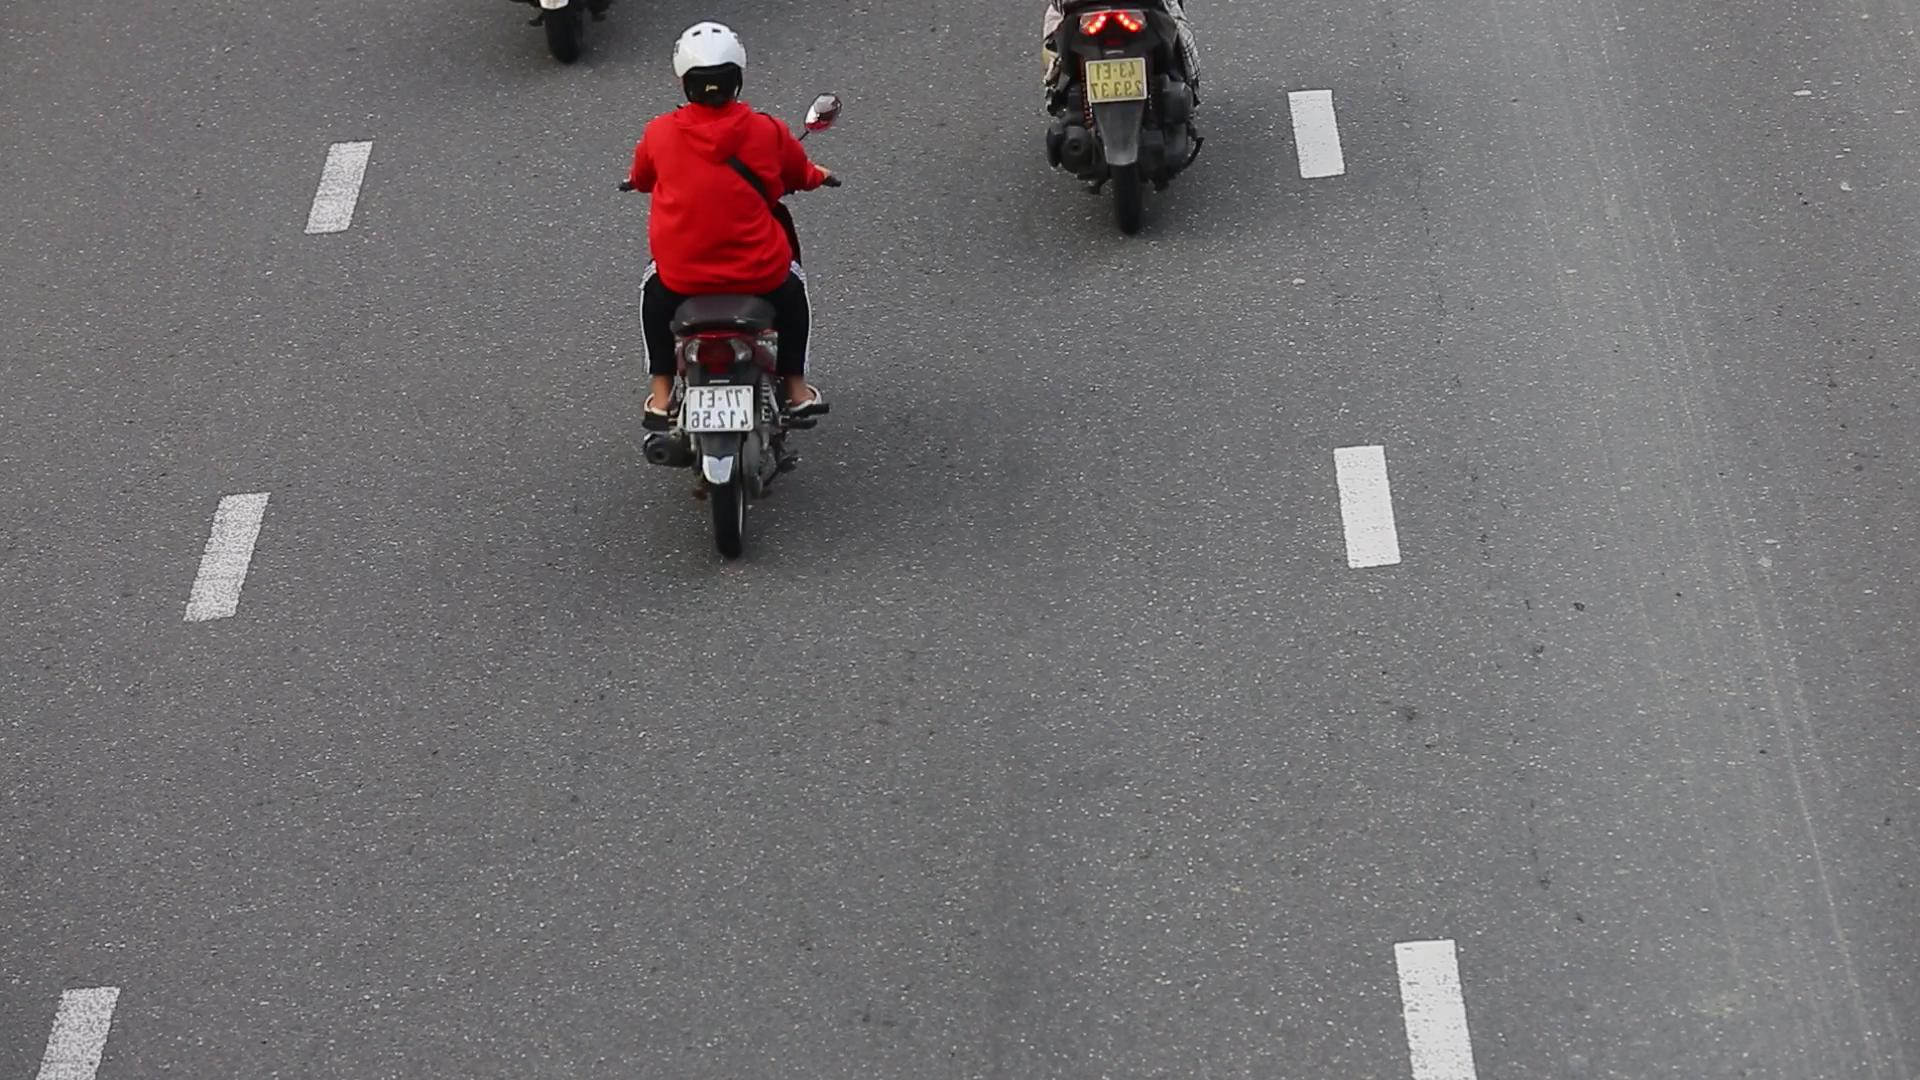motobike: (608, 0, 848, 566)
